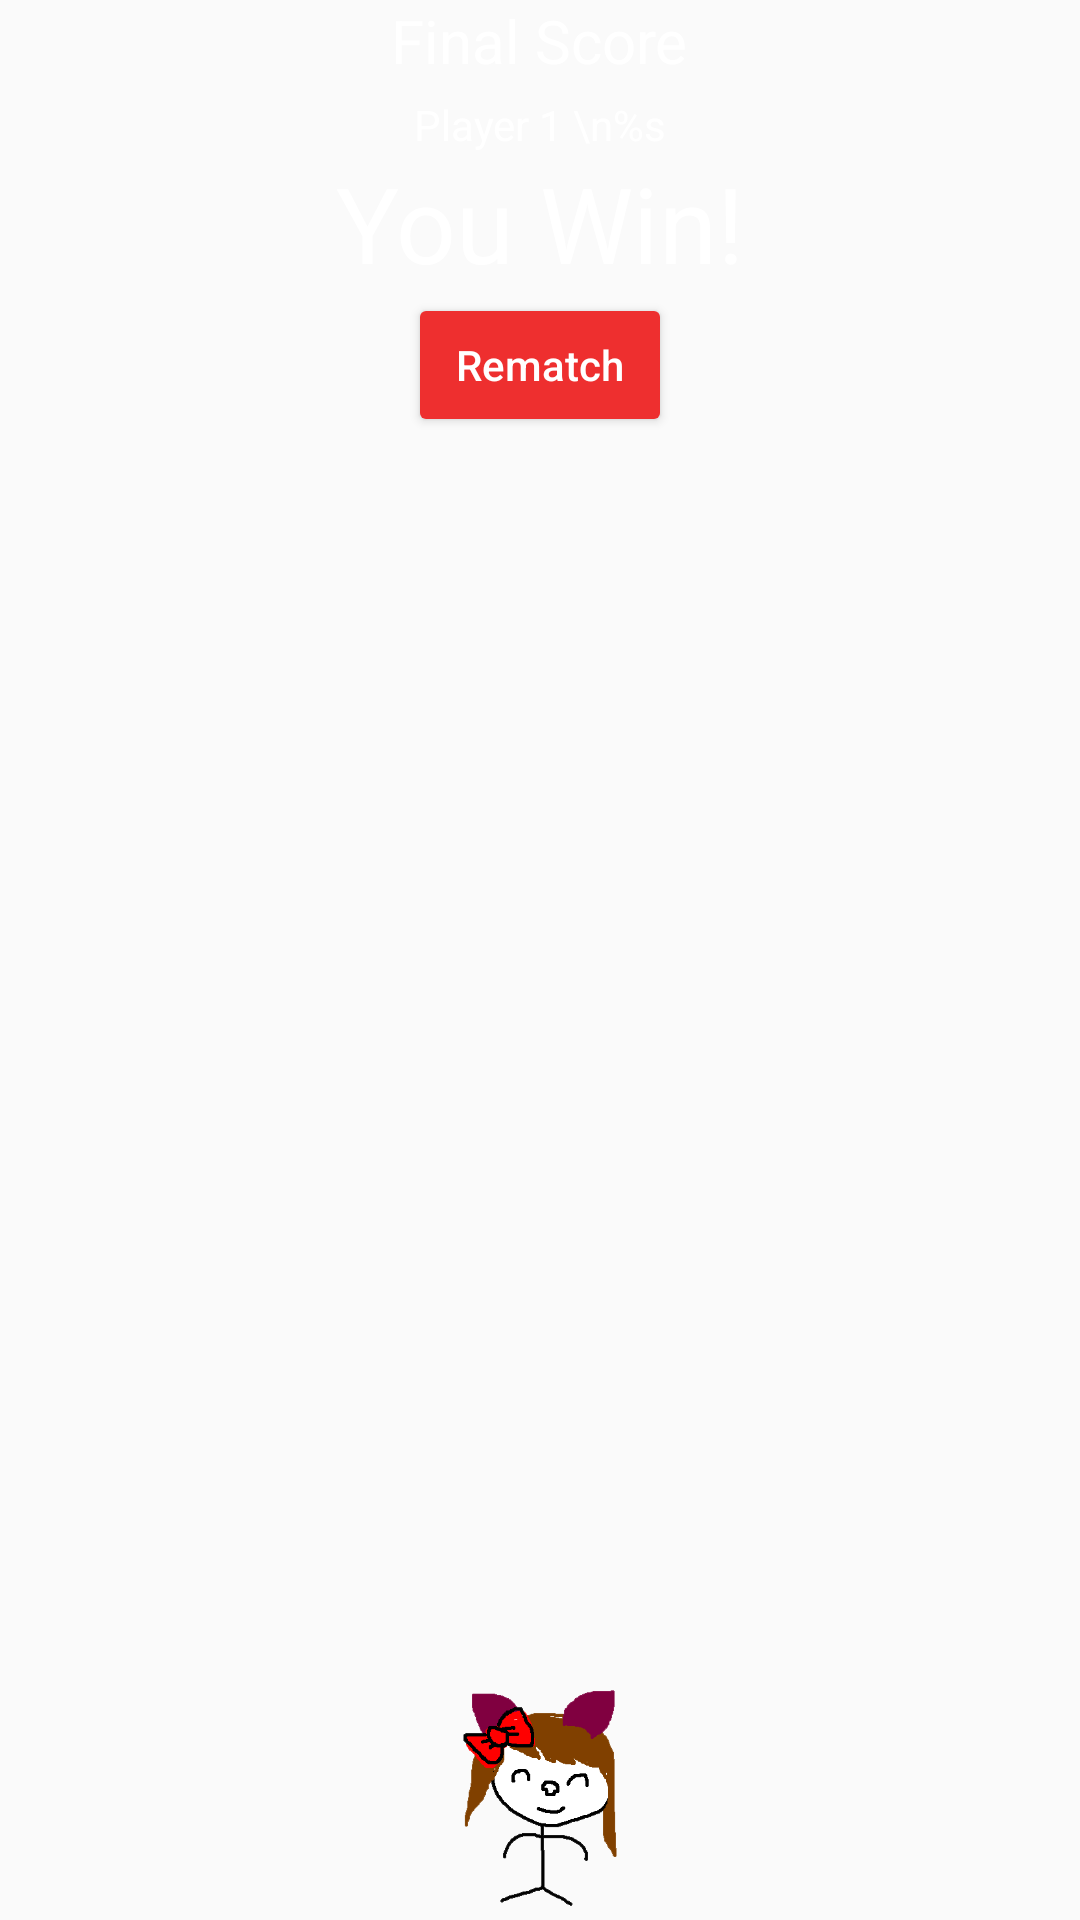

Where to tap for icons on this 1080×1920 app screen, as (x,y):
figure one: (540,1798)
